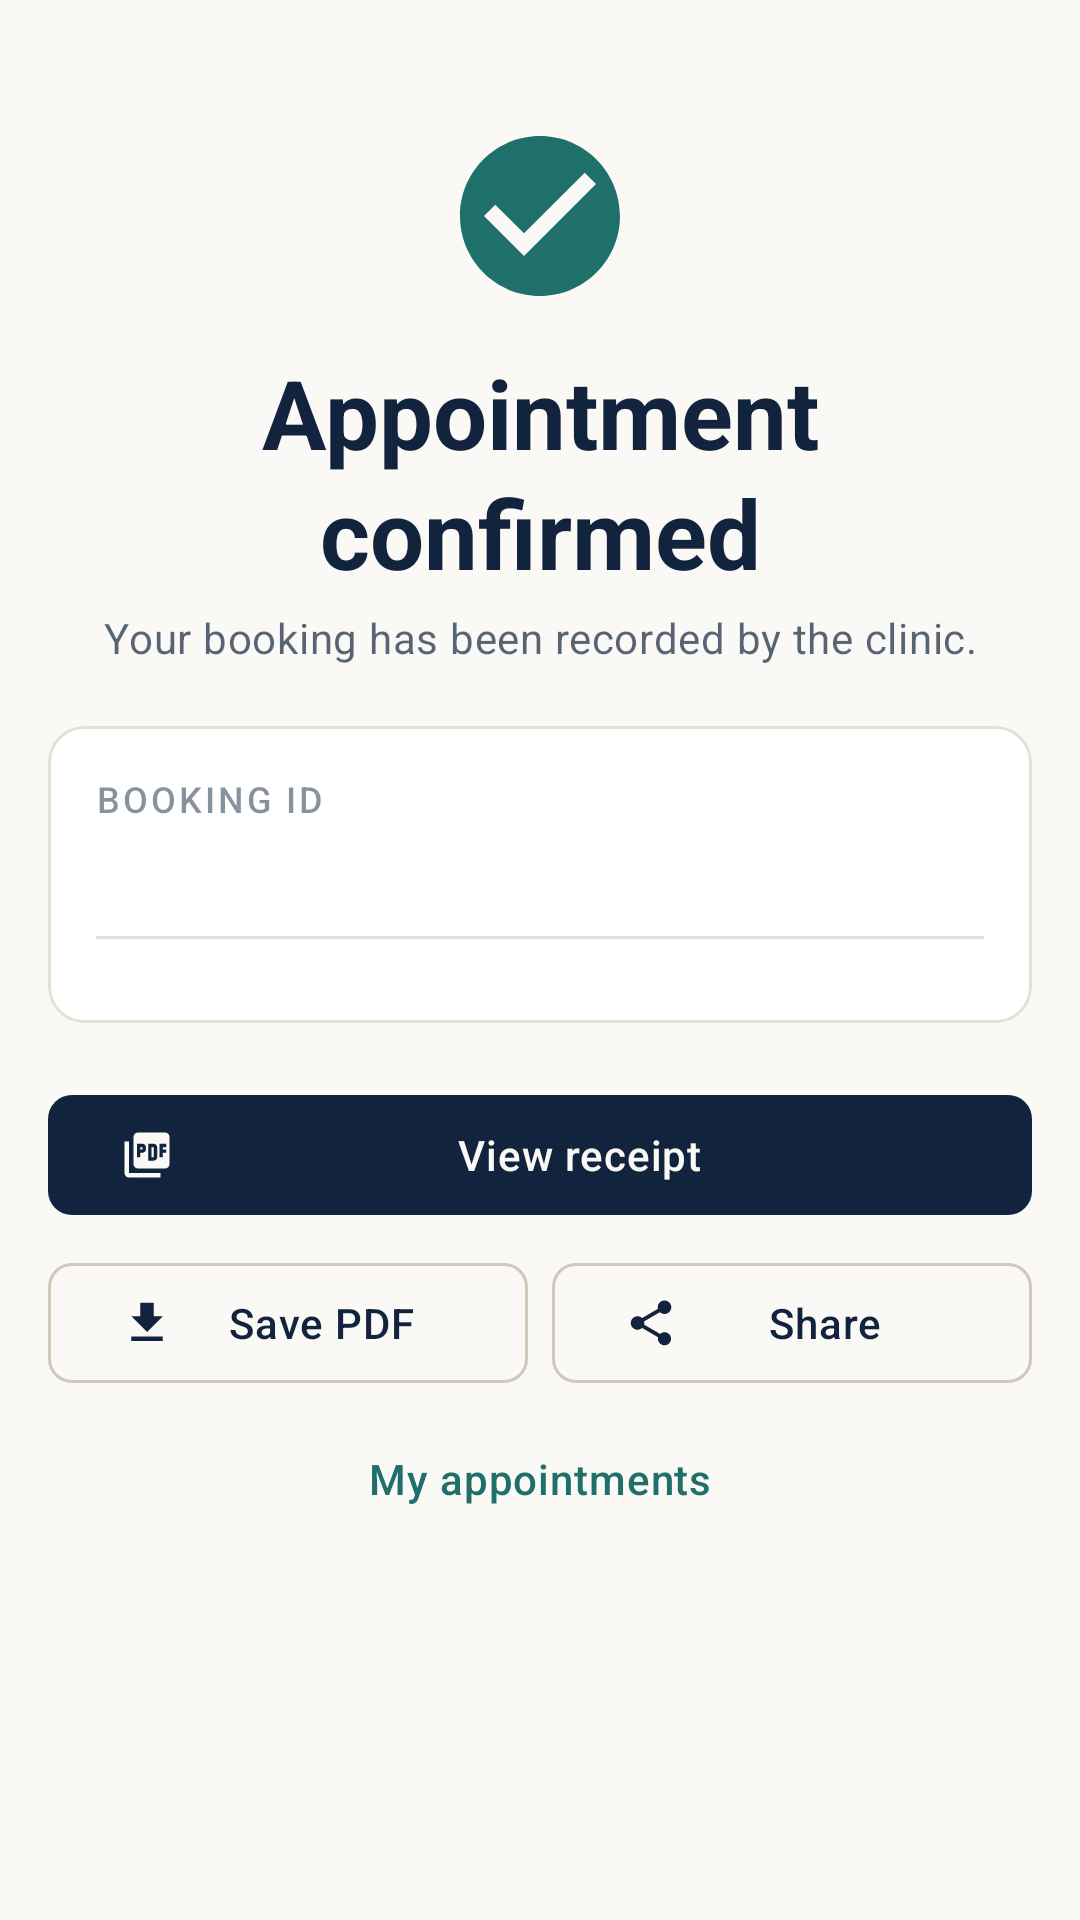

Named icons in this screenshot (1080px×1920px) and their centers, point (x, y):
check circle: point (540, 216)
